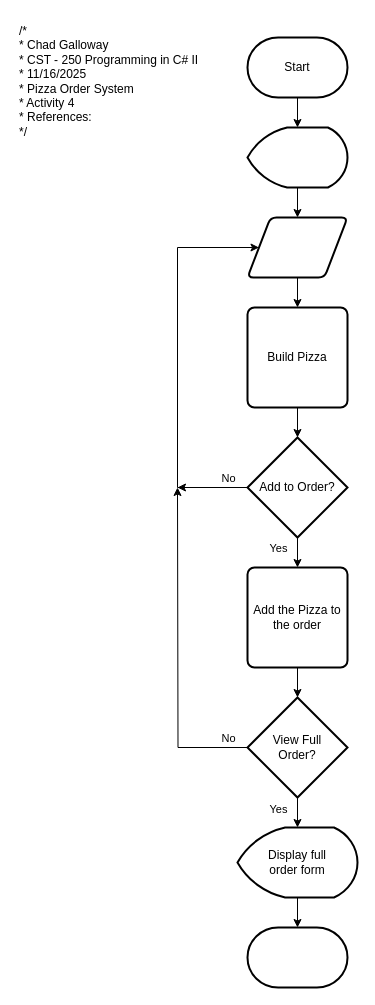
Image size: 375x1005. Some labels were removed from this diagram. The box of each missing label's shape, as (x1, y1, x2, y2) in pixels:
Display Form: (246, 126, 348, 188)
End: (246, 926, 348, 988)
user Input: (246, 216, 348, 278)
